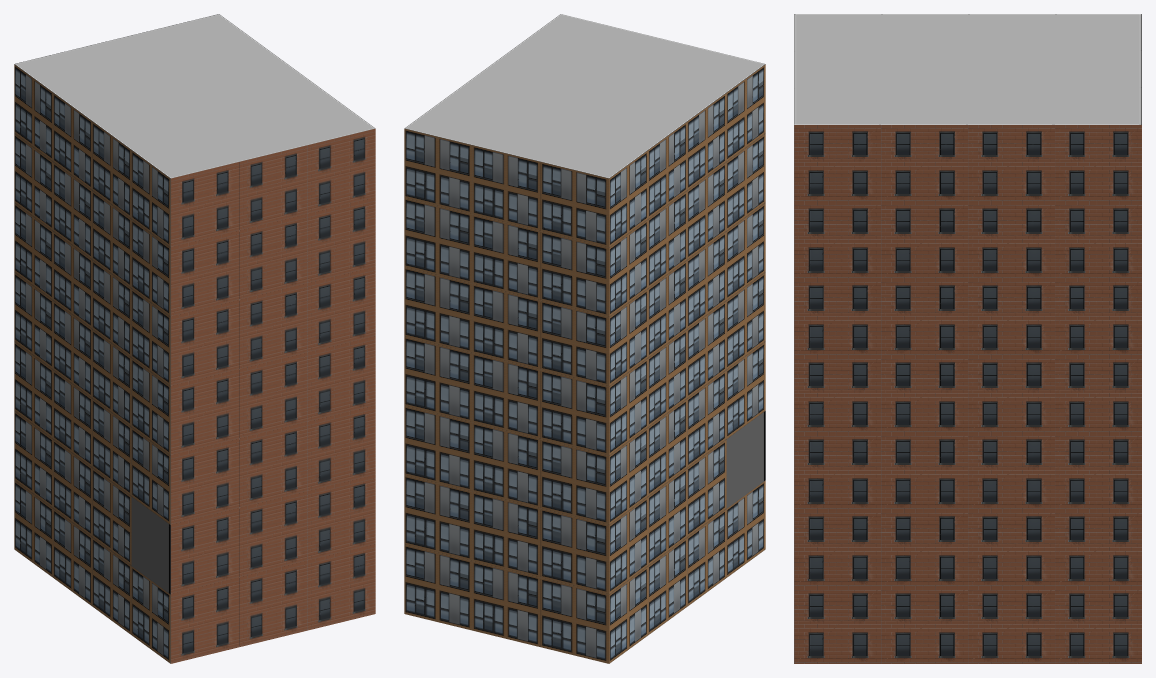
Rendered from Bih_house_02.FBX.
The picture shows the model from 3 angles, left to right: view 1: azimuth 30°, elevation 25°; view 2: azimuth 150°, elevation 25°; view 3: azimuth 270°, elevation 25°; orthographic projection. The views are drawn at different scales.
Visible parts, largest first — view 1: Box124; view 2: Box124; view 3: Box124.
Boxes of the visible parts, x1,y1,x2,y2 form: Box124: (14, 14, 375, 663); Box124: (404, 14, 765, 663); Box124: (794, 14, 1141, 663).
Size of the model in its own units: 311 by 703 by 411.
